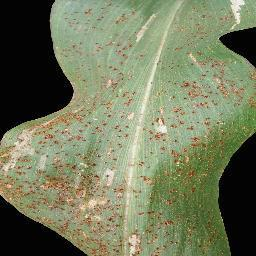Corn_Common_Rust: (0, 40, 256, 256), (51, 3, 157, 41), (173, 0, 256, 38)
